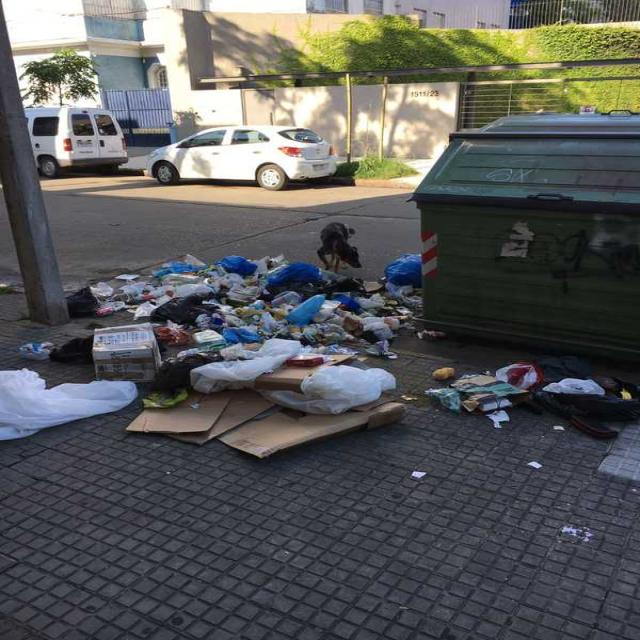garbage: (62, 252, 422, 483), (425, 355, 639, 450), (0, 336, 62, 458)
